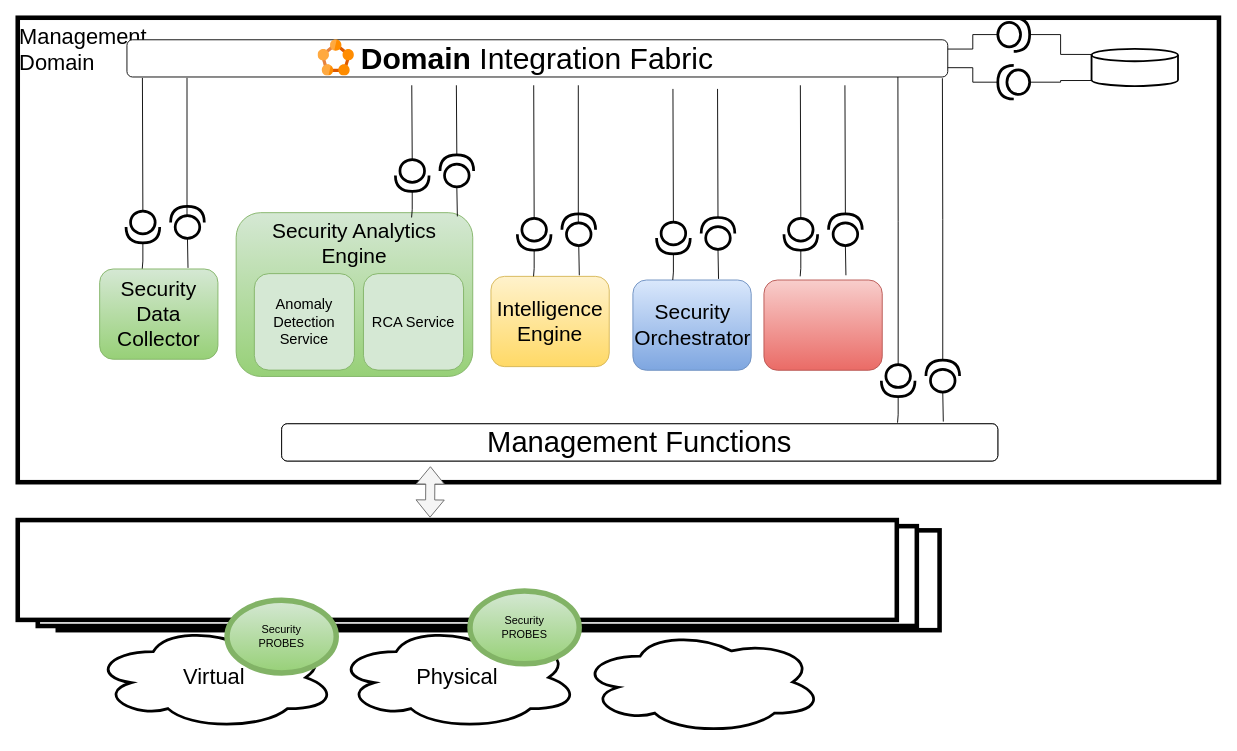
Image size: 1237x751. Some labels were removed from this diagram. Each missing label, with the centre of its shape:
"Data Services" belongs at point 1134,67.
"Domain Infrastructure Resources" belongs at point 457,569.
"Policy &SLA Management" belongs at point 822,324.
"XaaS" belongs at point 700,681.
